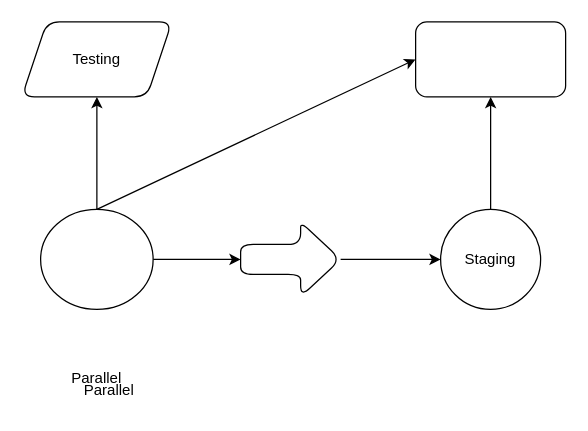
Image size: 588x431. Some labels were removed from this diagram. The box of each missing label's shape, as (x1, y1, x2, y2) in pixels:
Development: (39, 208, 153, 309)
Production: (414, 21, 566, 97)
